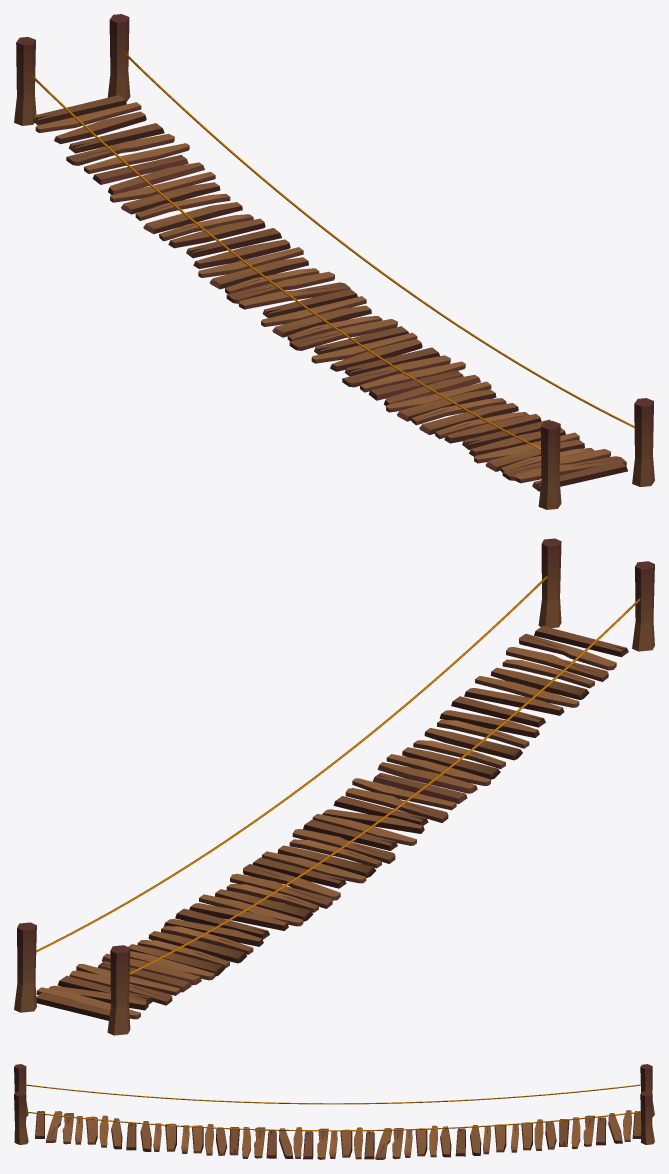
The model's file is bridgetemp02.fbx.
The picture shows the model from 3 angles, top to bottom: view 1: azimuth 30°, elevation 25°; view 2: azimuth 150°, elevation 25°; view 3: azimuth 270°, elevation 25°; orthographic projection. The views are drawn at different scales.
Visible parts, largest first — view 1: Object018; view 2: Object018; view 3: Object018.
Part boxes in pixels (x1,y1,x2,y2): Object018: (14,14,654,509); Object018: (14,538,654,1035); Object018: (14,1064,654,1159).
Size of what is drawn, in the model's own units: 249 by 231 by 2038.
